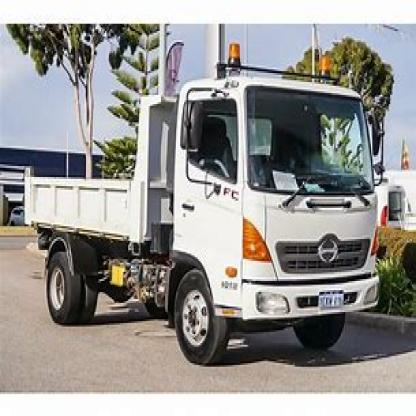dump_truck: (23, 47, 390, 360)
